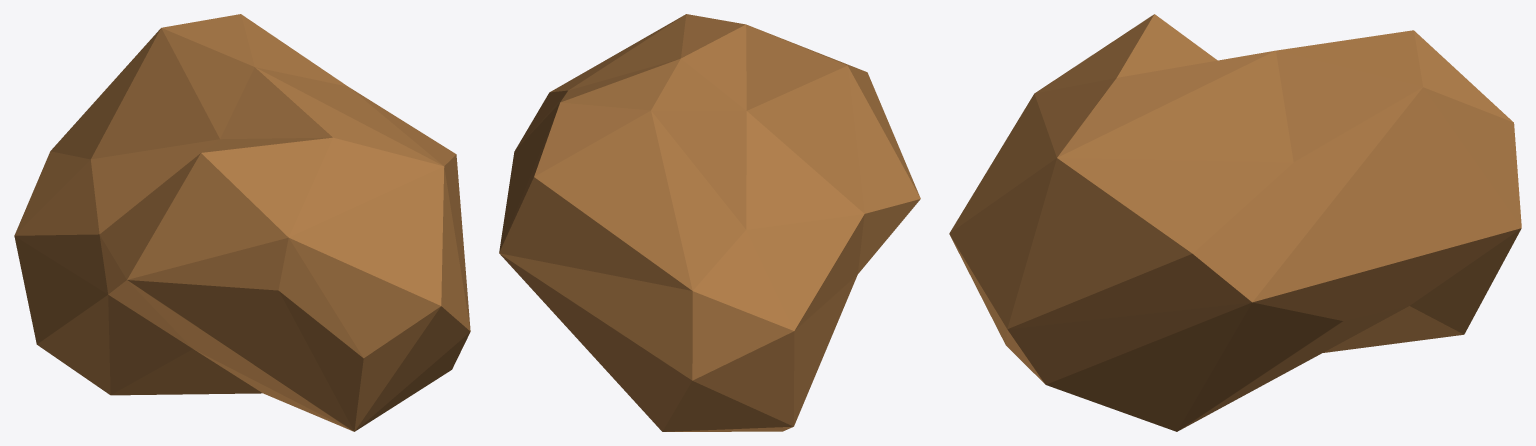
File: Rock_B_001.fbx
3 renders of one model, left to right at view 1: azimuth 30°, elevation 25°; view 2: azimuth 150°, elevation 25°; view 3: azimuth 270°, elevation 25°, orthographic. The views are drawn at different scales.
Visible parts, largest first — view 1: Rock B.001; view 2: Rock B.001; view 3: Rock B.001.
Part boxes in pixels (bbox=[...]): Rock B.001: bbox=[14, 14, 470, 431]; Rock B.001: bbox=[499, 14, 920, 431]; Rock B.001: bbox=[949, 14, 1521, 431].
Bounding box in the file's own units: 45.28 × 39.04 × 56.69.
